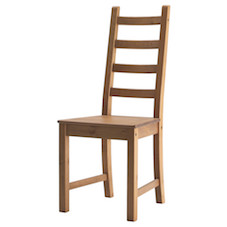chair: (45, 4, 186, 198)
